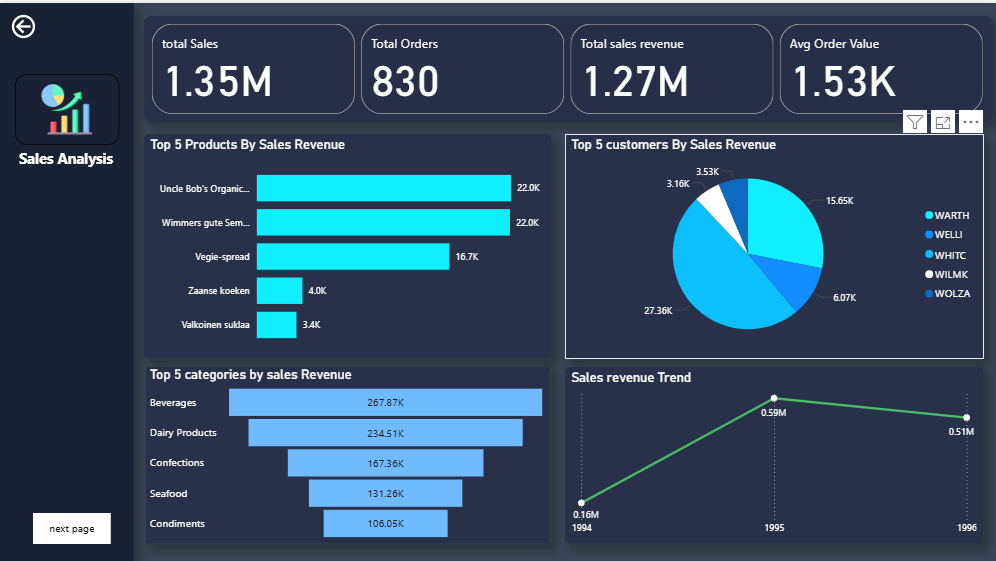

The dashboard page shown, as its layout file describes it:
{"tool":"powerbi","page":{"name":"Sales Analysis","canvas":[1280,720],"ordinal":1},"visuals":[{"type":"shape","box":[0,0,172.2,719.7],"z":0},{"type":"cardVisual","fields":{"Data":["Table.total Sales","Table.Total Orders","Table.Total sales revenue","Table.Avg Order Value"]},"box":[185.1,16.7,1091.1,136.2],"z":1000},{"type":"barChart","title":"Top 5 Products By Sales Revenue","fields":{"Category":["products.ProductName"],"Y":["Table.Total sales revenue"]},"box":[185.1,168.4,523.1,289.2],"z":2000},{"type":"pieChart","title":"Top 5 customers By Sales Revenue","fields":{"Series":["customers.CustomerID"],"Y":["Table.Total sales revenue"]},"box":[726.1,168.4,538.5,289.2],"z":3000},{"type":"funnel","title":"Top 5 categories by sales Revenue","fields":{"Y":["Table.Total sales revenue"],"Category":["categories.CategoryName"]},"box":[187.6,467.8,519.2,227.5],"z":4000},{"type":"lineChart","title":"Sales revenue Trend","fields":{"Y":["table.Total sales revenue"],"Category":["orders.year od Order date"]},"box":[726.1,467.8,537.2,227.5],"z":5000},{"type":"actionButton","box":[42.4,655.4,100.2,39.8],"z":6000},{"type":"image","box":[19.3,91.2,133.7,91.2],"z":7000},{"type":"textbox","box":[19.3,182.5,142.7,38.6],"z":8000},{"type":"actionButton","box":[10,10,100.2,39.8],"z":8001}]}

Visuals, with their boxes in screenshot pixels (x1, y1, x2, y2), scaled from the page's 1280x720 canvas onto the 996x561 screenshot:
shape: [left=0, top=0, right=134, bottom=560]
cardVisual - Table.total Sales x Table.Total Orders: [left=144, top=13, right=993, bottom=119]
"Top 5 Products By Sales Revenue" barChart: [left=144, top=131, right=551, bottom=357]
"Top 5 customers By Sales Revenue" pieChart: [left=565, top=131, right=984, bottom=357]
"Top 5 categories by sales Revenue" funnel: [left=146, top=364, right=550, bottom=542]
"Sales revenue Trend" lineChart: [left=565, top=364, right=983, bottom=542]
actionButton: [left=33, top=511, right=111, bottom=542]
image: [left=15, top=71, right=119, bottom=142]
textbox: [left=15, top=142, right=126, bottom=172]
actionButton: [left=8, top=8, right=86, bottom=39]
